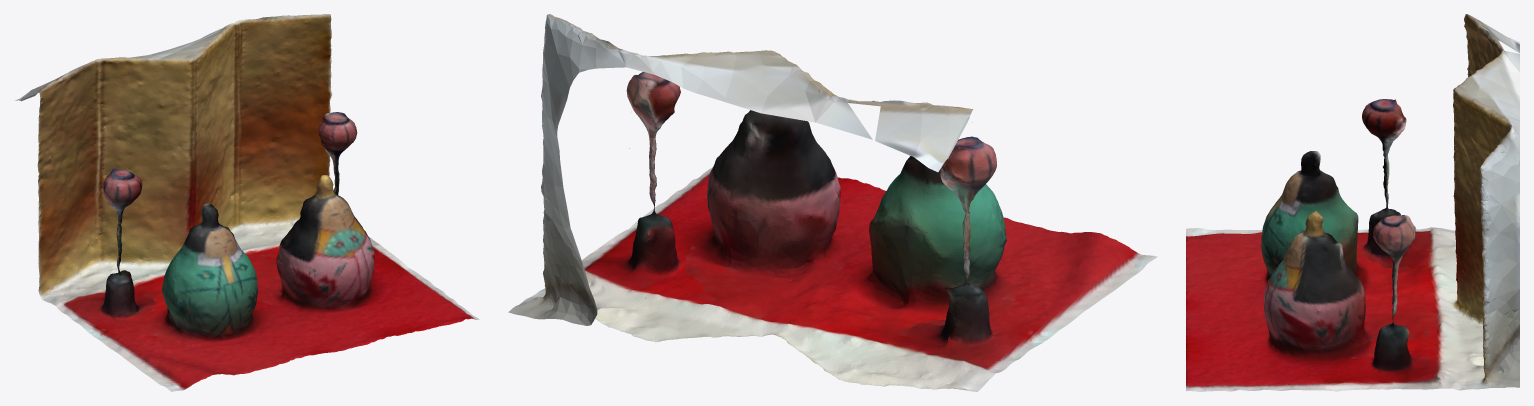
File: kokeshiS007.glb
3 views of the same model, side by side, from view 1: azimuth 30°, elevation 25°; view 2: azimuth 150°, elevation 25°; view 3: azimuth 270°, elevation 25° (orthographic). The views are drawn at different scales.
Parts seen in each view (by area): view 1: mesh; view 2: mesh; view 3: mesh.
Boxes of the visible parts, box(x1,y1,x2,y2) form: mesh: box(14, 14, 479, 391); mesh: box(508, 14, 1157, 391); mesh: box(1186, 14, 1519, 391).
Size of the model in its own units: 0.2106 by 0.1369 by 0.1863.
1 material, 1 textured.
